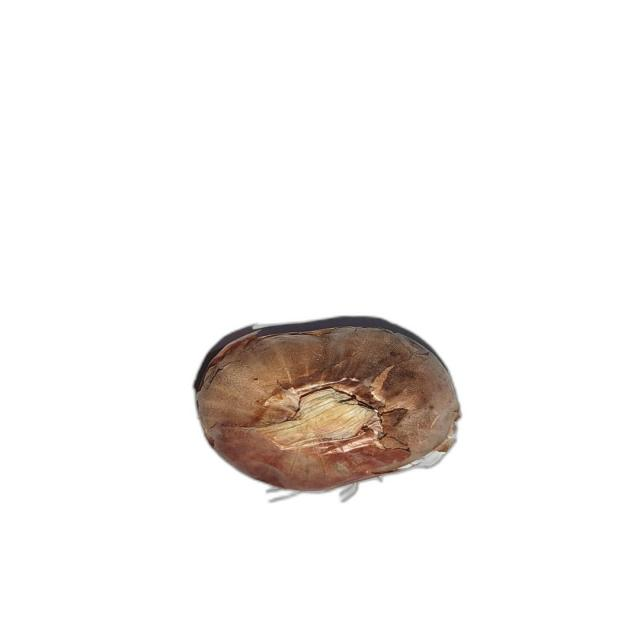onion: (194, 325, 462, 496)
